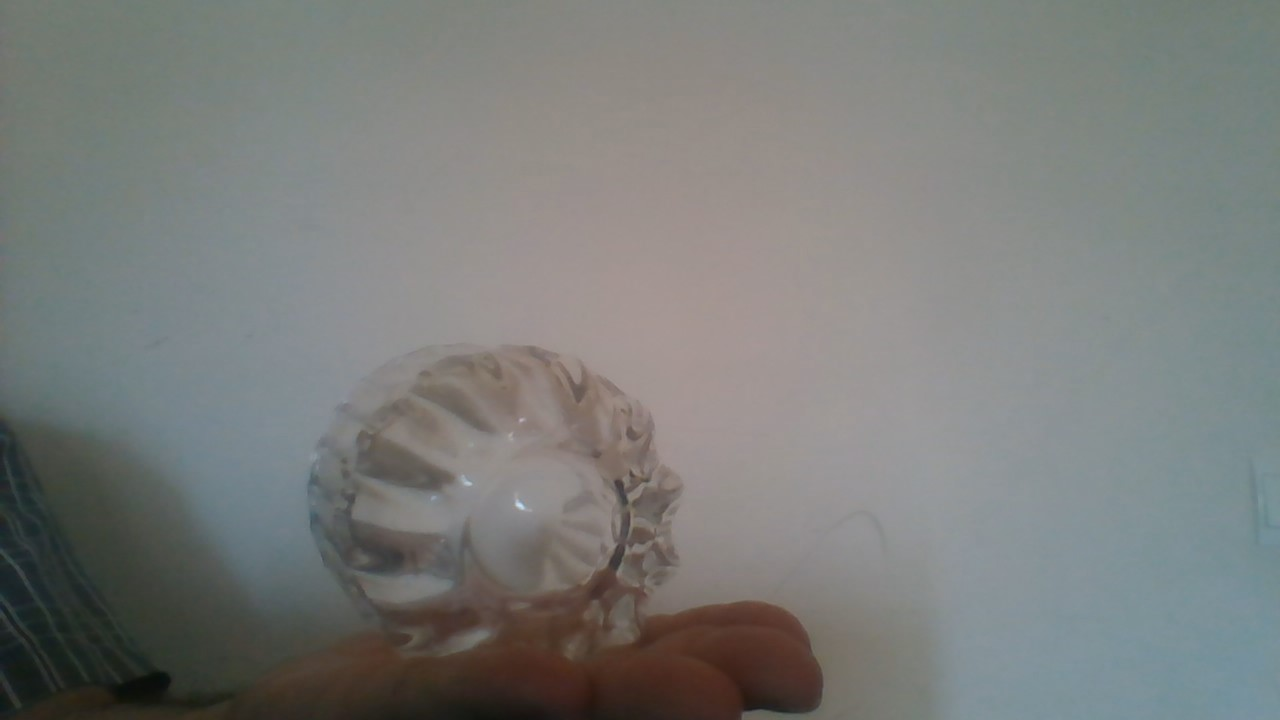glass: (300, 338, 690, 659)
